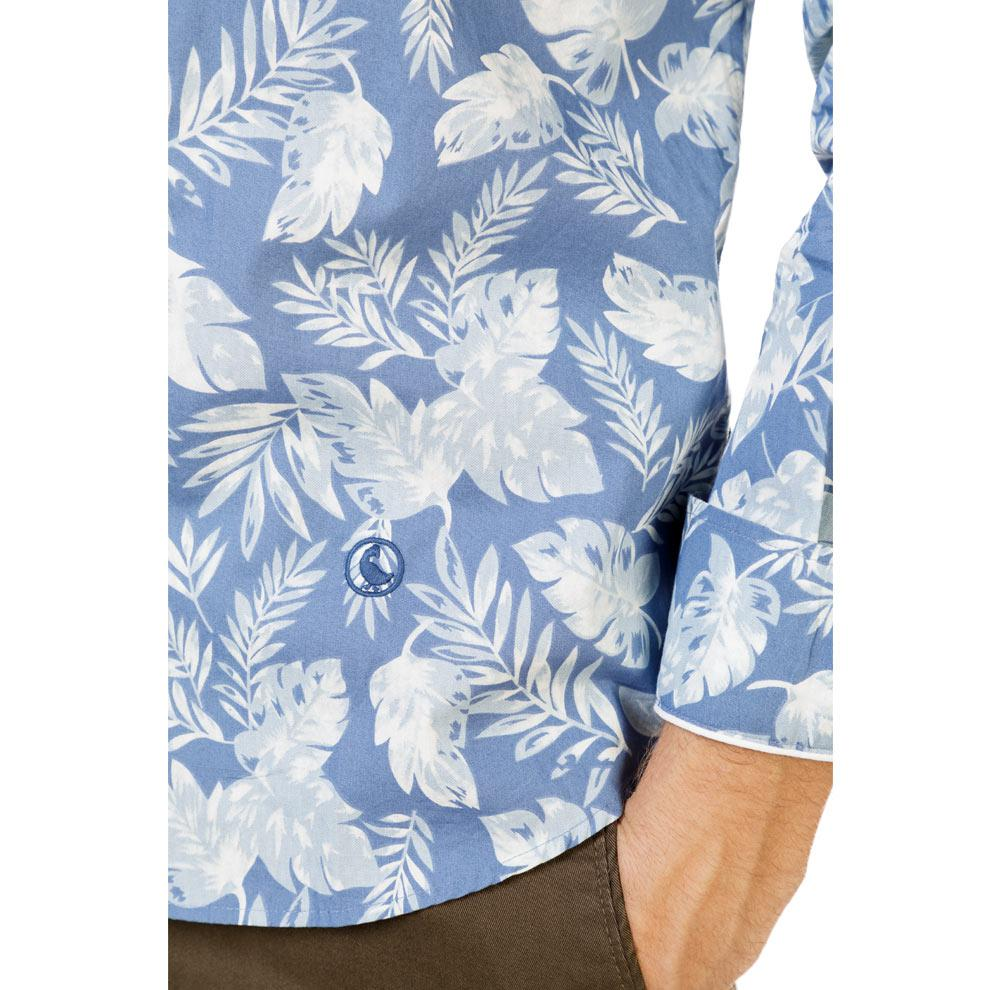teeshirt: (150, 1, 845, 934)
